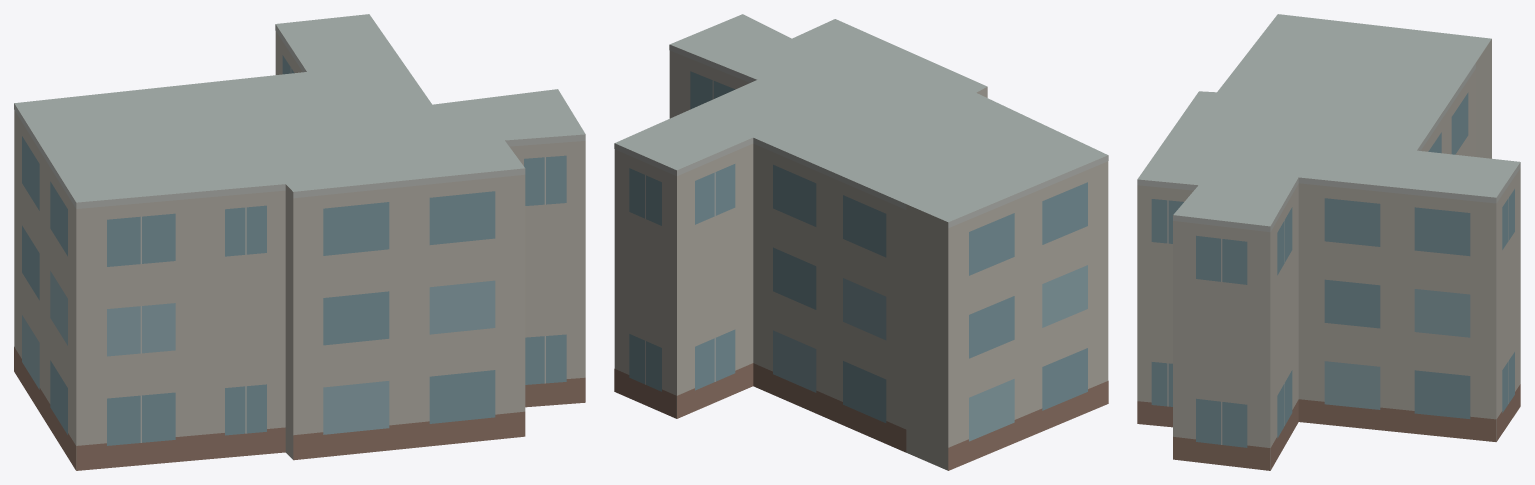
File: survey-upis-32638382.glb
3 renders of one model, left to right at view 1: azimuth 30°, elevation 25°; view 2: azimuth 150°, elevation 25°; view 3: azimuth 270°, elevation 25°, orthographic. The views are drawn at different scales.
Parts seen in each view (by area): view 1: survey-upis-32638382.tmp; view 2: survey-upis-32638382.tmp; view 3: survey-upis-32638382.tmp.
Part boxes in pixels (x1=…): survey-upis-32638382.tmp: x1=14, y1=14, x2=585, y2=470; survey-upis-32638382.tmp: x1=614, y1=14, x2=1108, y2=470; survey-upis-32638382.tmp: x1=1137, y1=14, x2=1520, y2=470.
Bounding box in the file's own units: 19.02 × 10.2 × 14.51.
